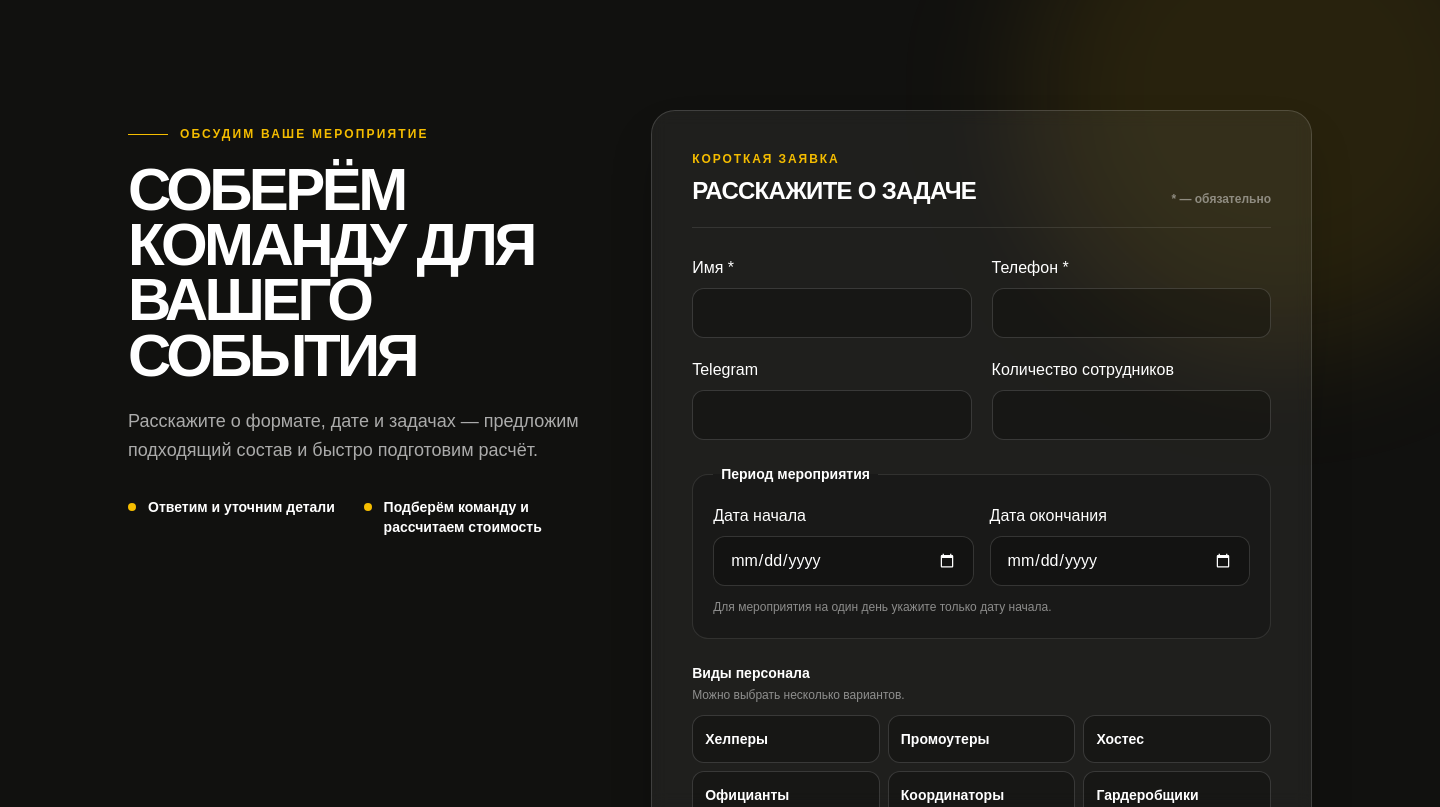
Test: ContactForm › links an invalid date range error to the end date and focuses it
The width and height of the screenshot is (1440, 807).
Type "Иван" into the field labelled "Имя" at (832, 313), box top-left (692, 288), bottom-right (972, 338)
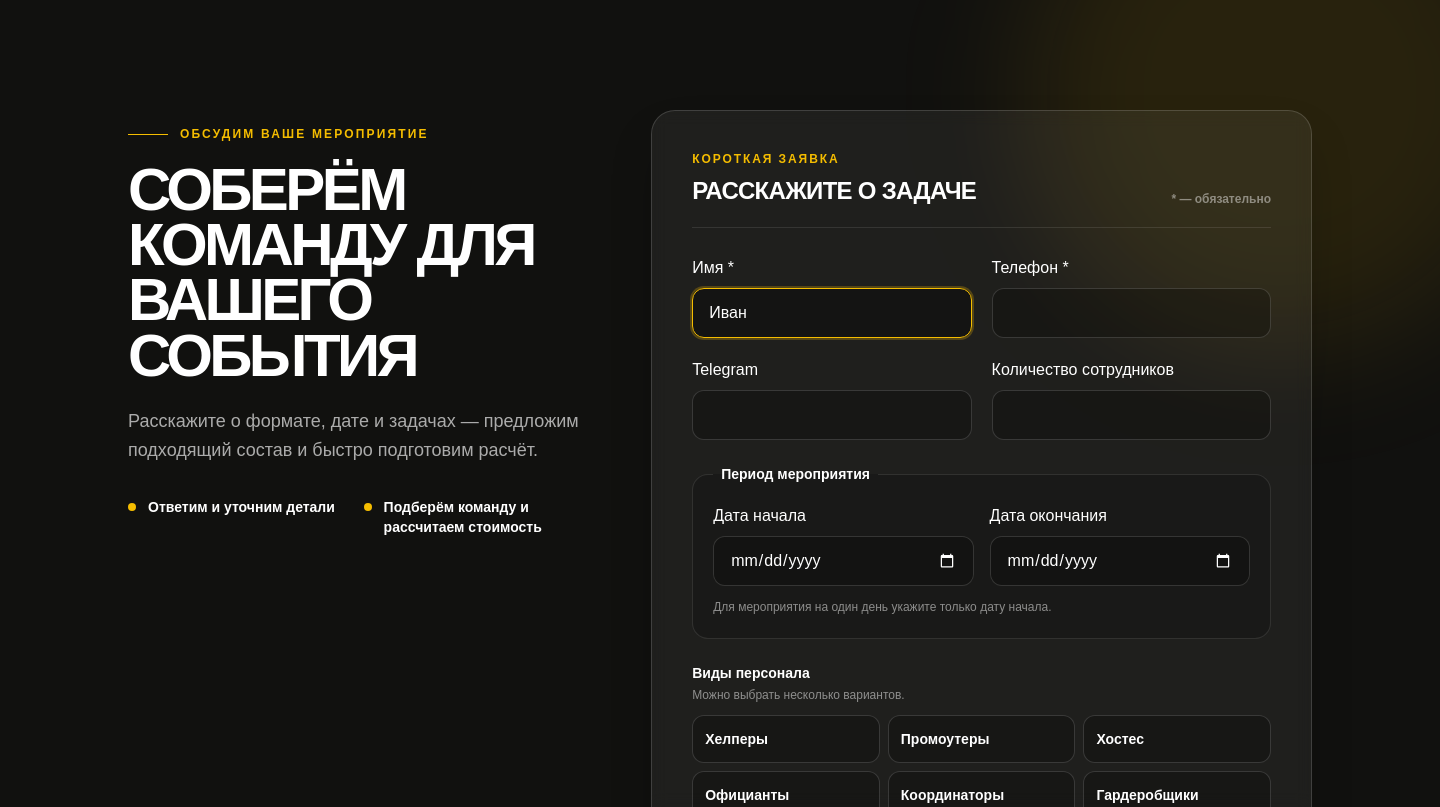
Type "+7 999 123-45-67" into the field labelled "Телефон" at (1131, 313), box top-left (992, 288), bottom-right (1271, 338)
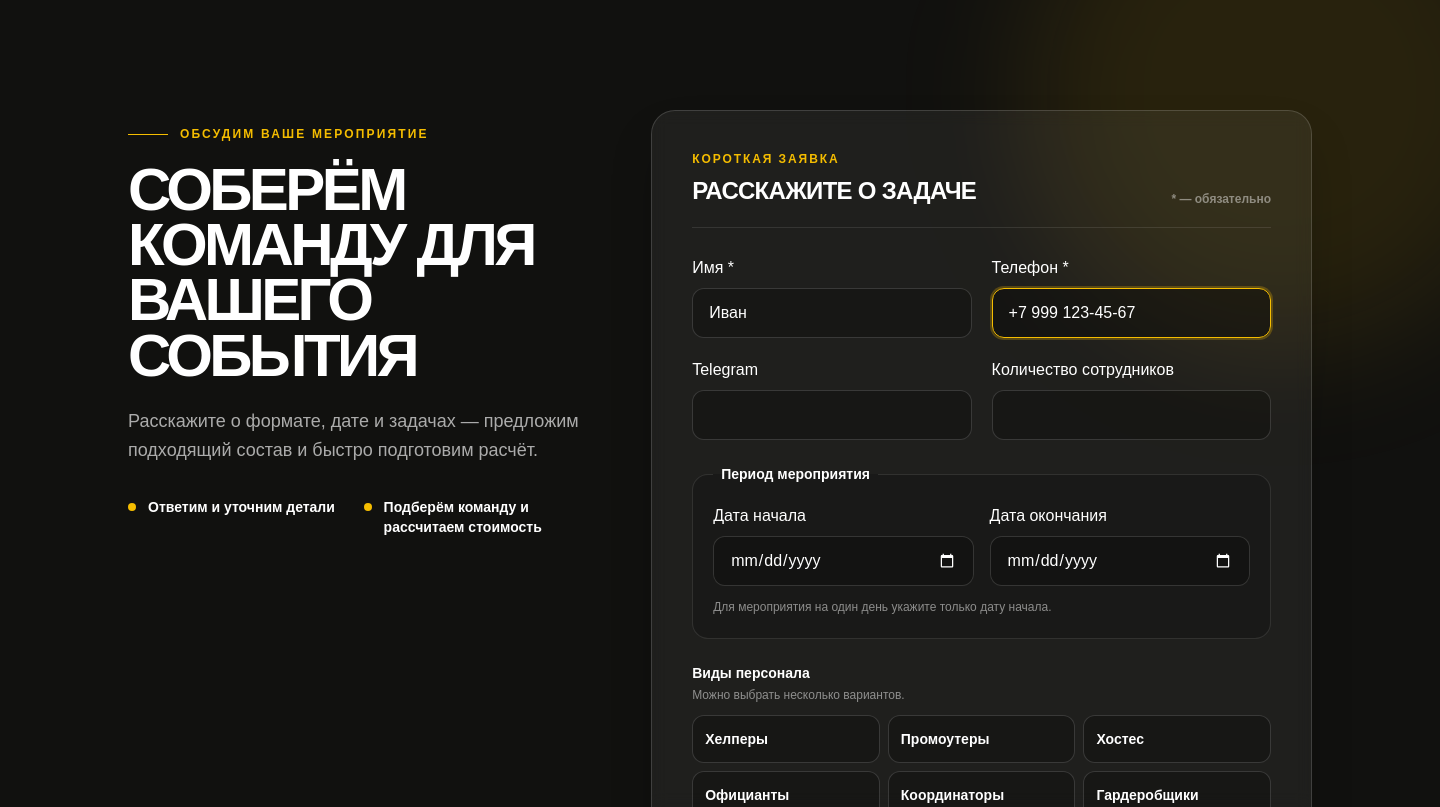
Type "2026-09-27" into the date field labelled "Дата начала" at (843, 561), box top-left (713, 536), bottom-right (974, 586)
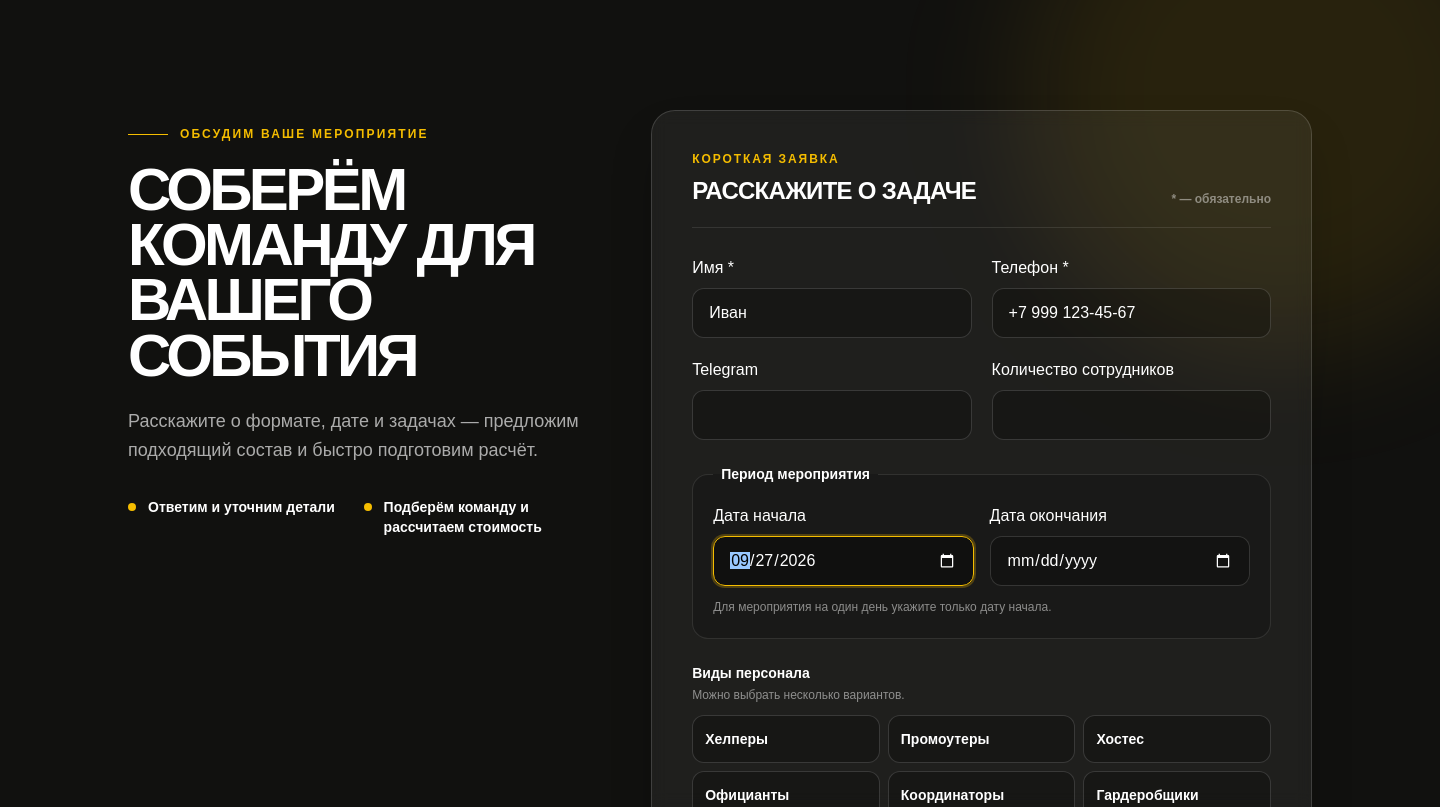
Type "2026-09-25" into the date field labelled "Дата окончания" at (1120, 561), box top-left (990, 536), bottom-right (1250, 586)
(page scrolled)
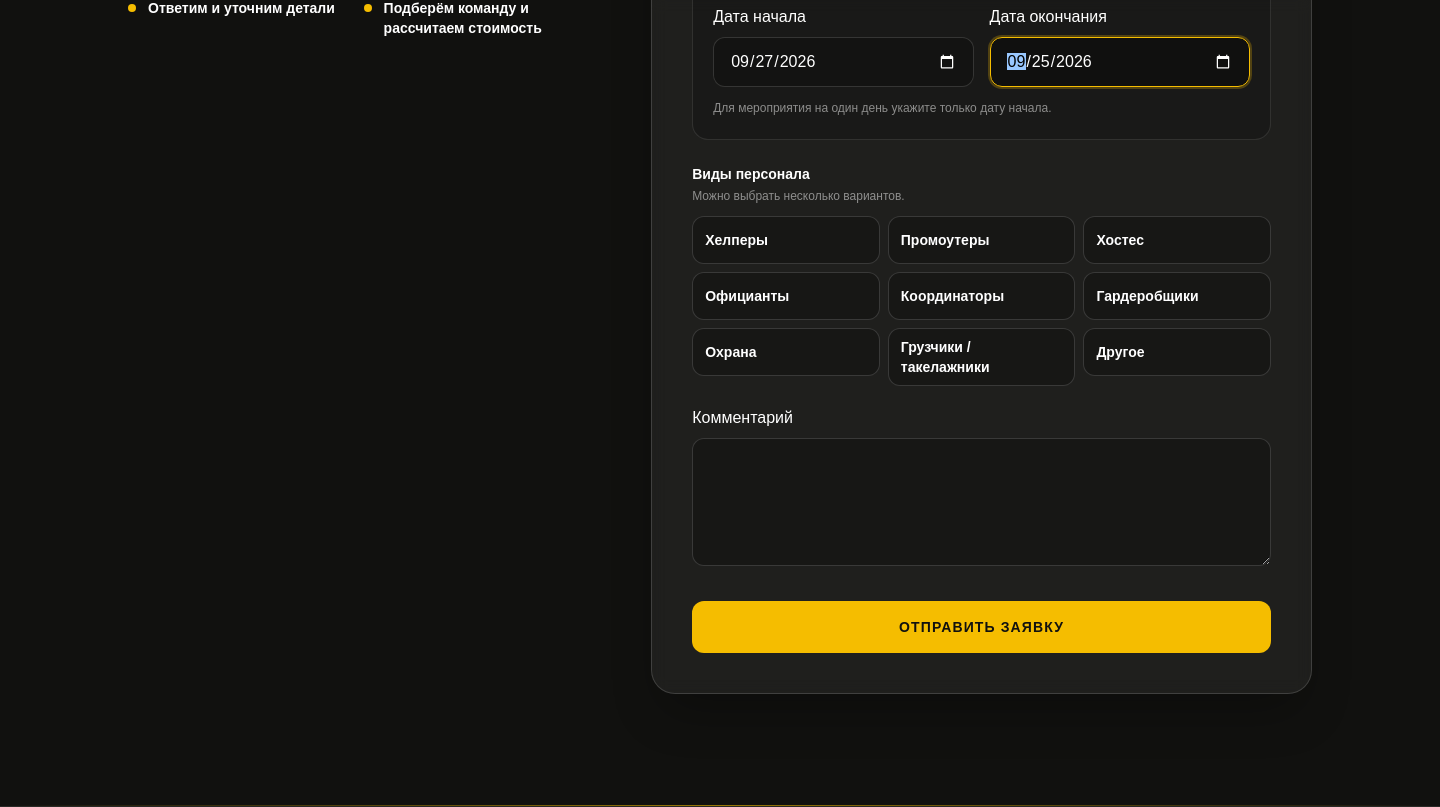
Click the button "Отправить заявку" at (982, 626), box top-left (692, 600), bottom-right (1271, 652)
(page scrolled)
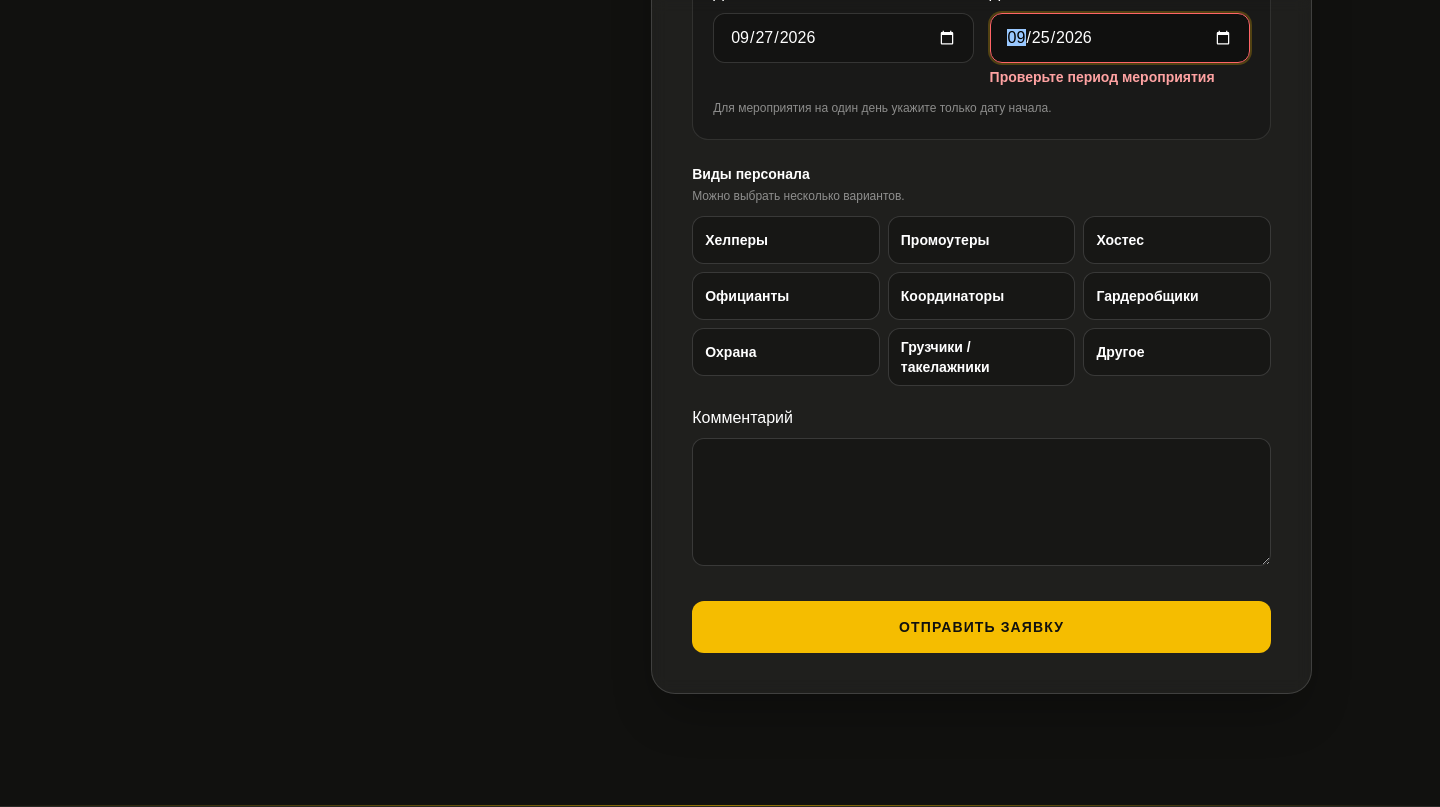
Now the date field labelled "Дата окончания" is marked as invalid, box top-left (990, 13), bottom-right (1250, 63)
Now the date field labelled "Дата окончания" has attribute aria-describedby="eventEndDate-error", box top-left (990, 13), bottom-right (1250, 63)
